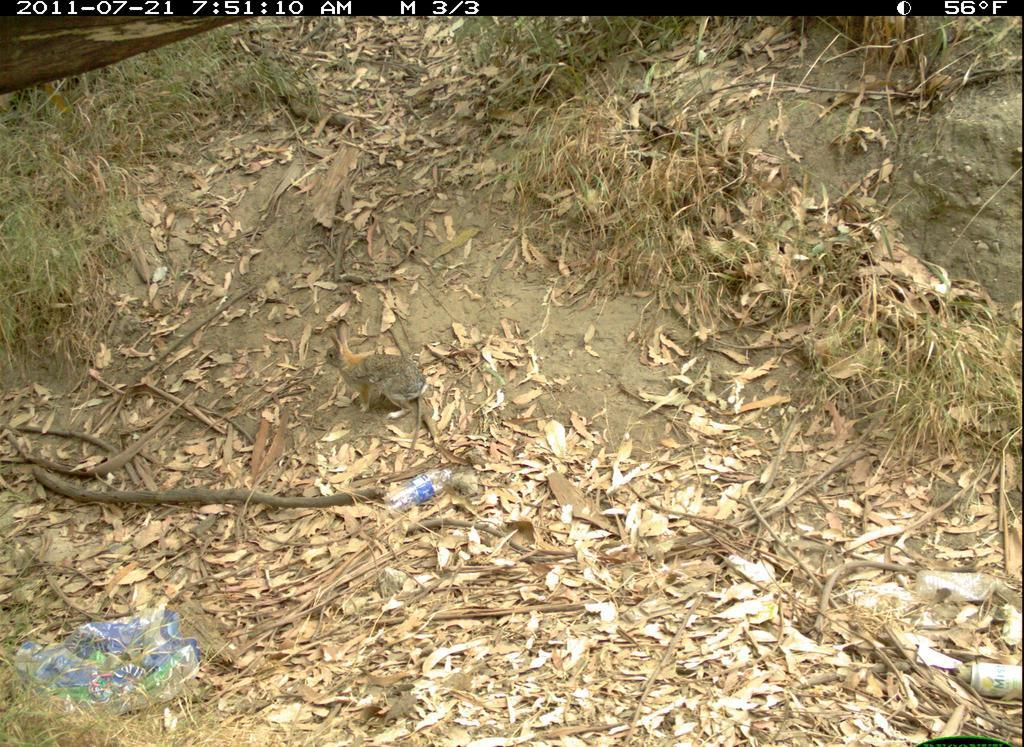rabbit: (312, 314, 465, 424)
